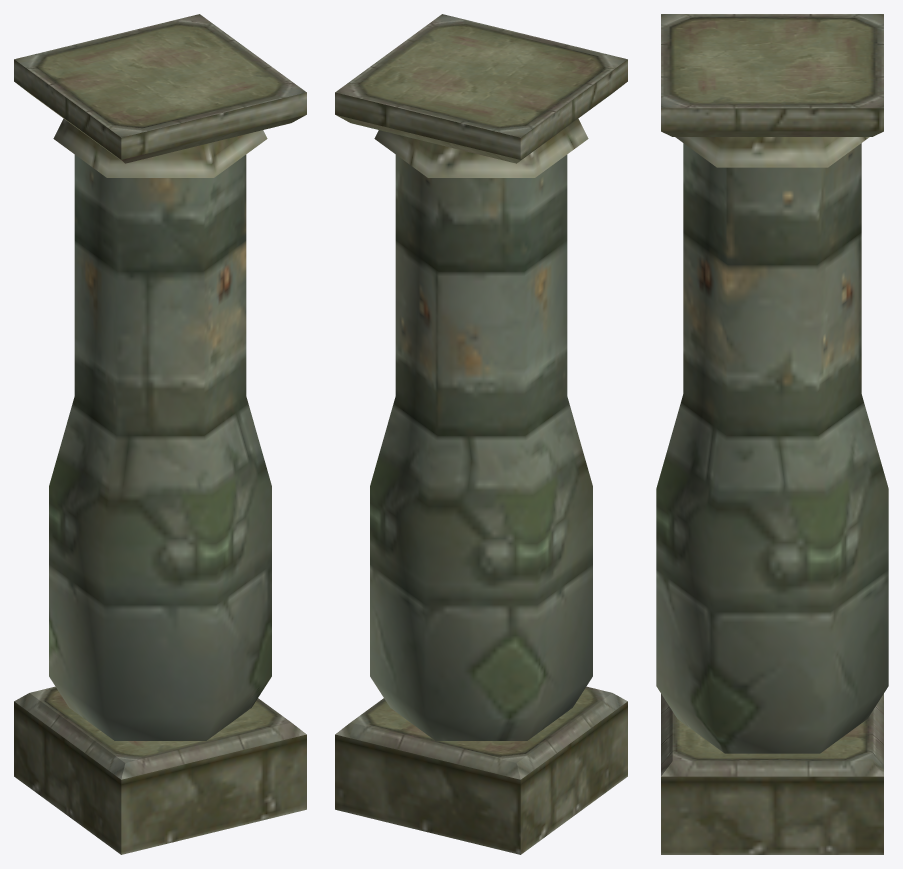
File: fence-01.fbx
3 renders of one model, left to right at view 1: azimuth 30°, elevation 25°; view 2: azimuth 150°, elevation 25°; view 3: azimuth 270°, elevation 25°, orthographic. The views are drawn at different scales.
Parts seen in each view (by area): view 1: Cube.179; view 2: Cube.179; view 3: Cube.179.
Part boxes in pixels (x1,y1,x2,y2): Cube.179: [14, 14, 306, 854]; Cube.179: [335, 14, 627, 854]; Cube.179: [656, 14, 888, 854].
Size of the model in its own units: 0.3 by 1.11 by 0.312.
